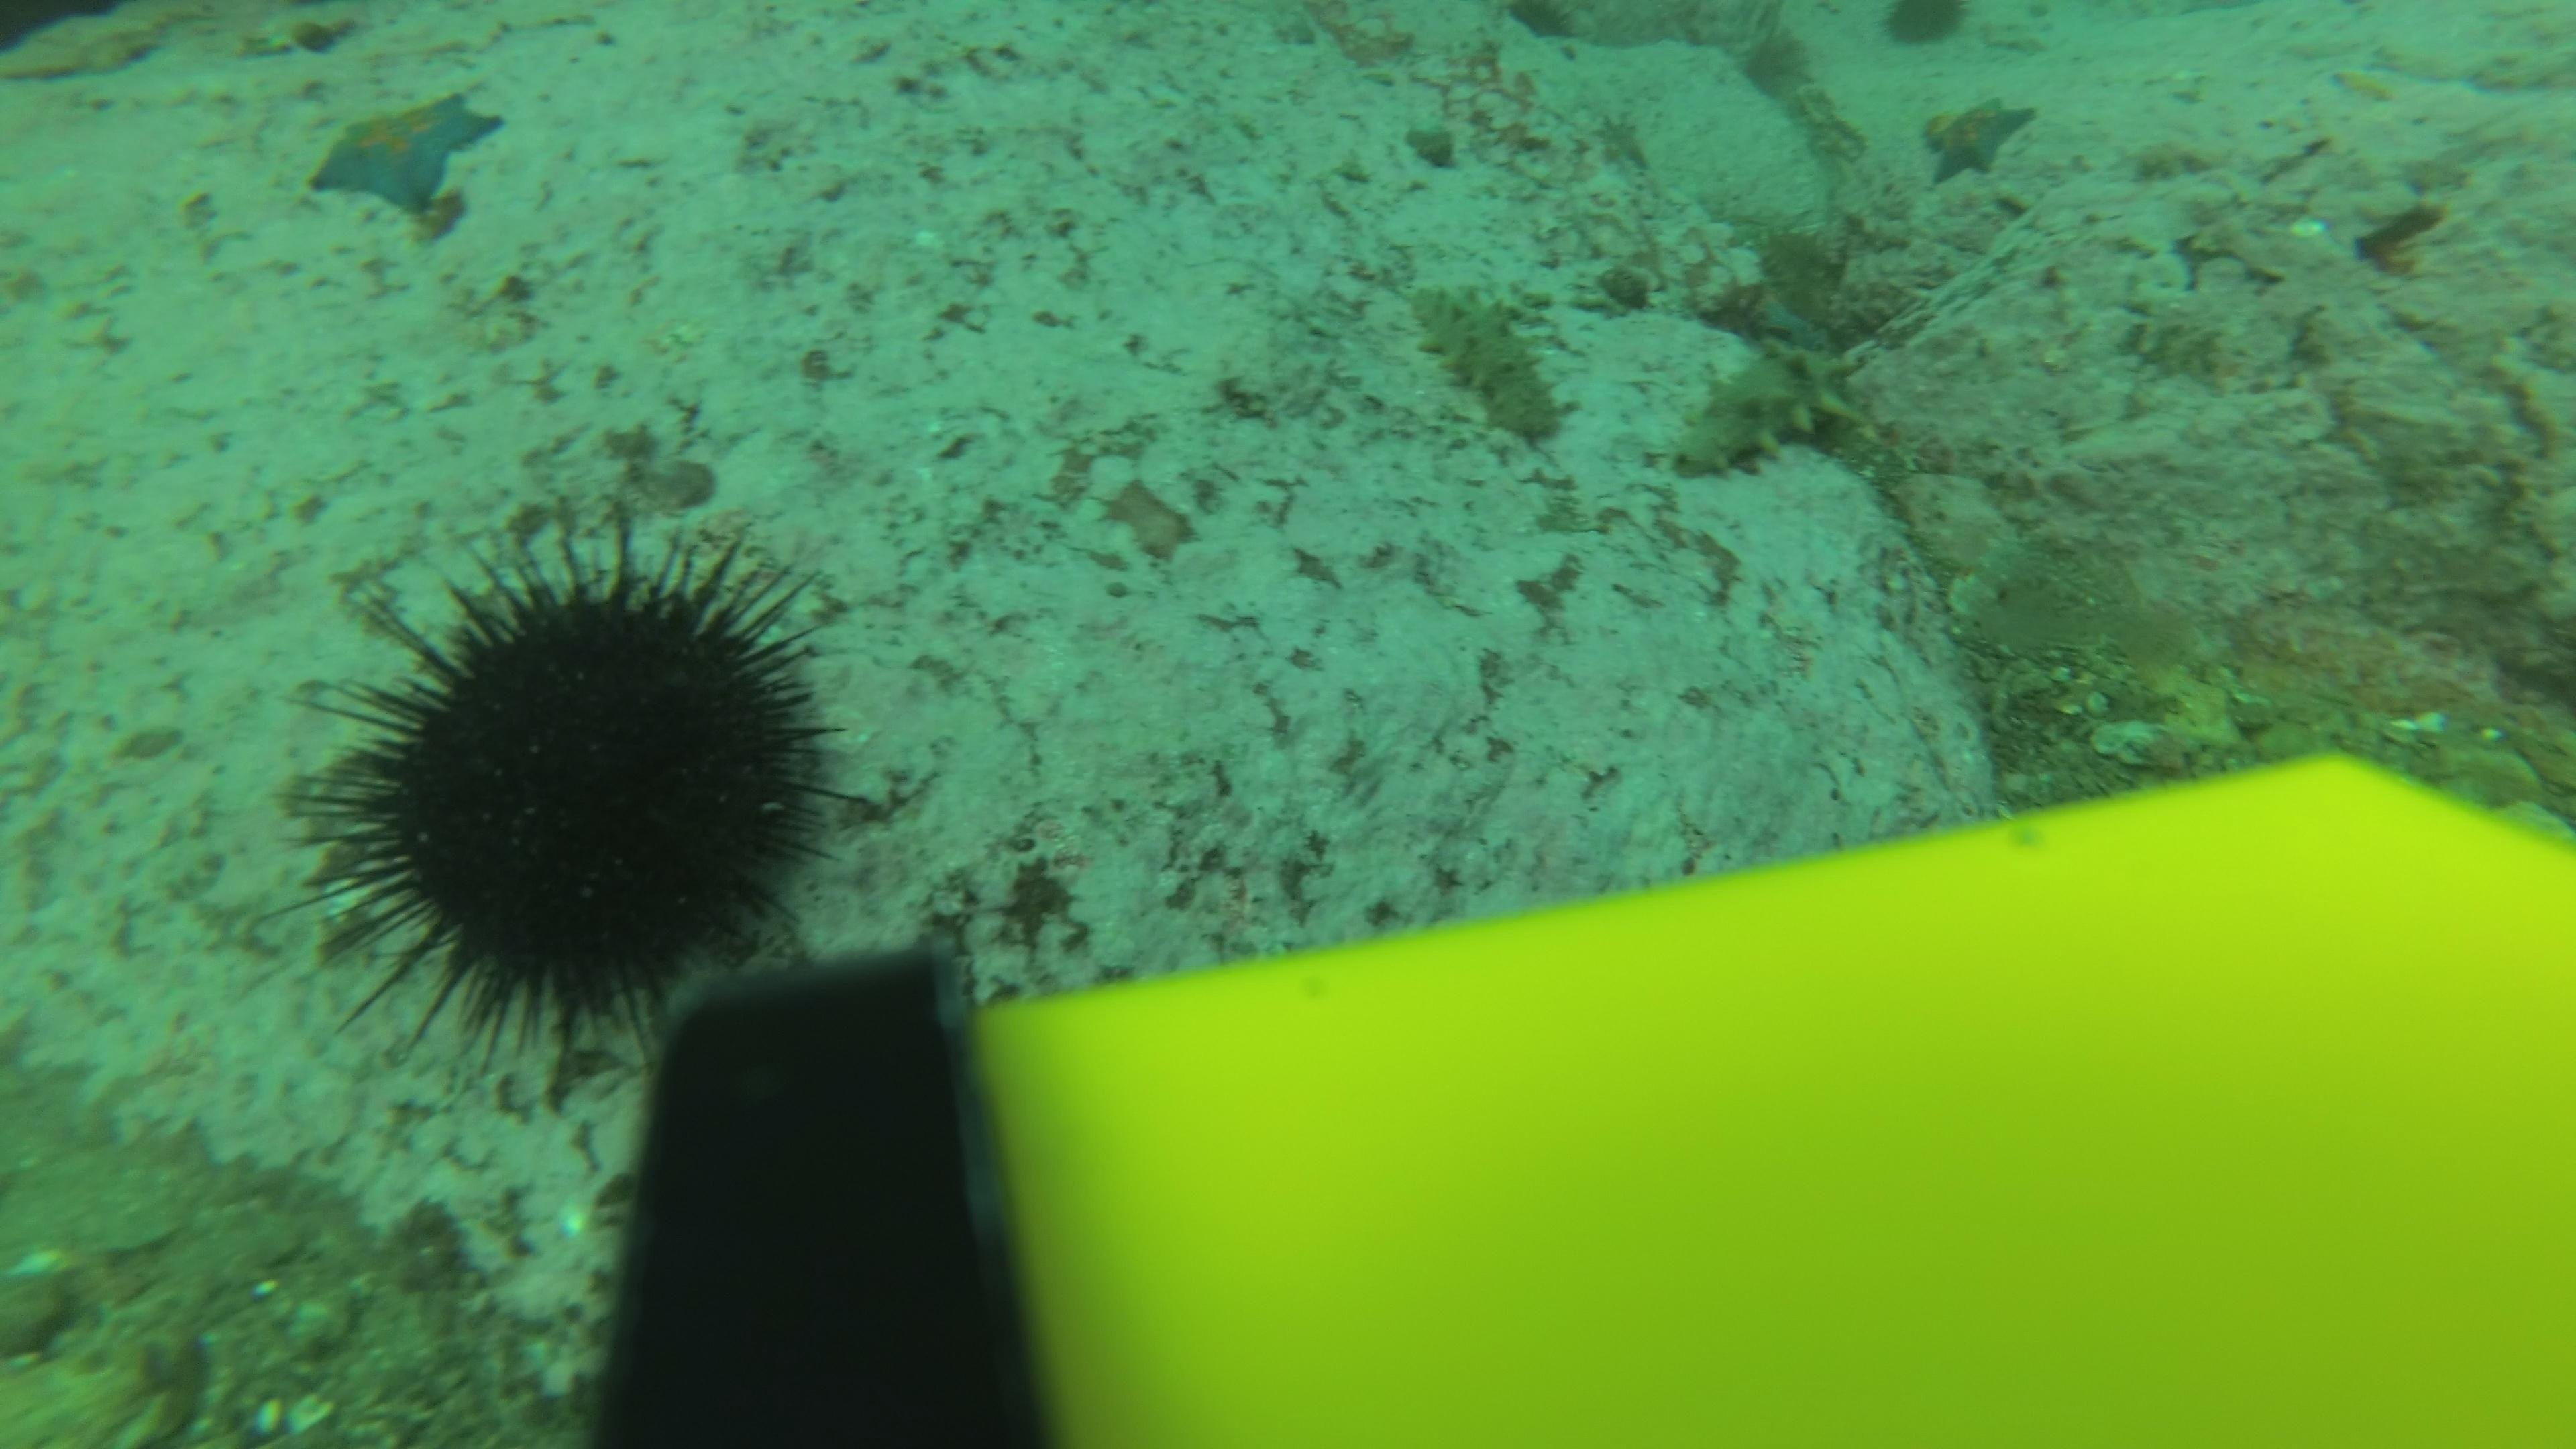echinus: (299, 518, 858, 1051)
holothurian: (1663, 329, 1879, 481), (1401, 272, 1575, 449), (1771, 225, 1844, 318)
starfish: (301, 87, 510, 221), (1916, 90, 2042, 186), (1729, 274, 1838, 354), (1785, 78, 1868, 159), (1591, 108, 1654, 175)
